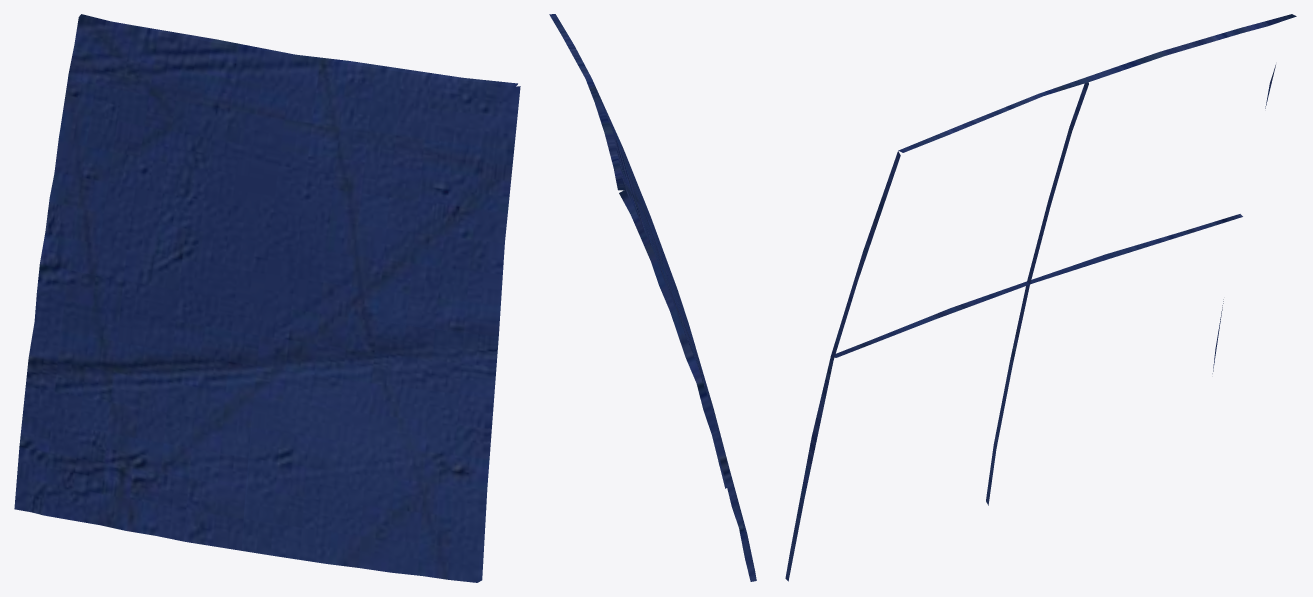
The picture shows the model from 3 angles, left to right: view 1: azimuth 30°, elevation 25°; view 2: azimuth 150°, elevation 25°; view 3: azimuth 270°, elevation 25°; orthographic projection. The views are drawn at different scales.
Bounding box in the file's own units: 1053064 × 1206871 × 1166657.
1 material, 1 textured.
